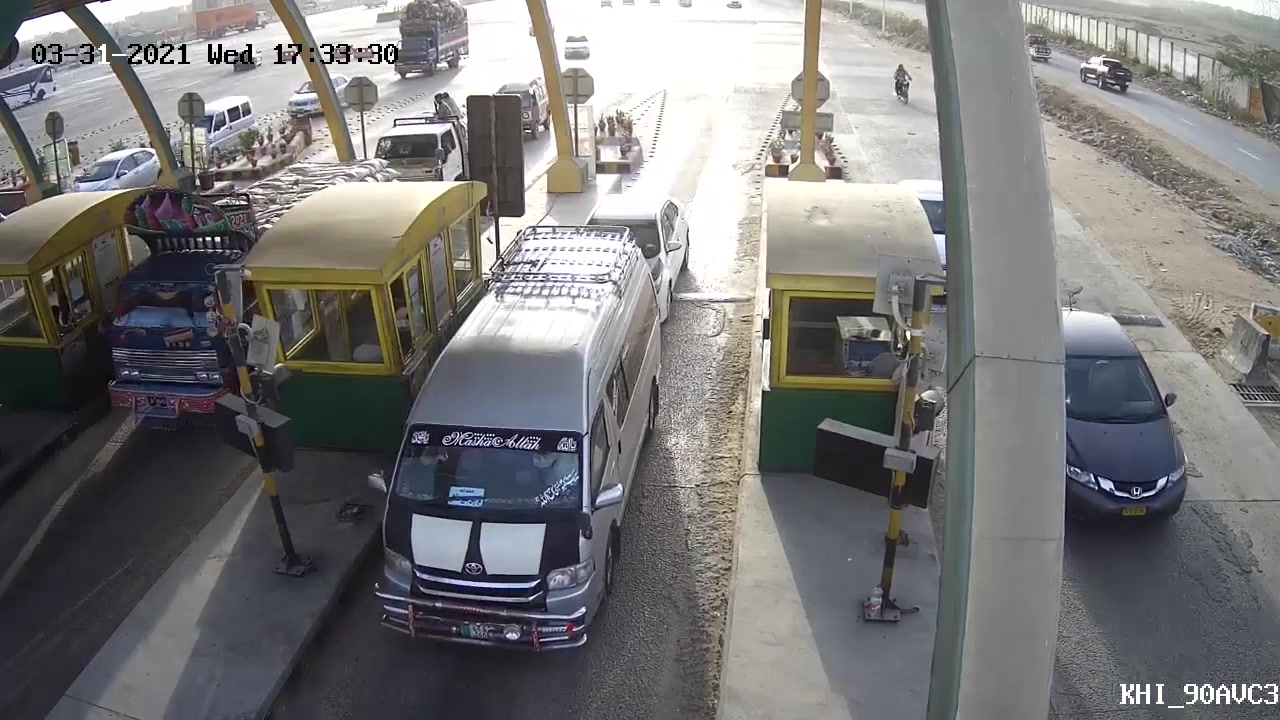F2: (330, 230, 661, 674)
